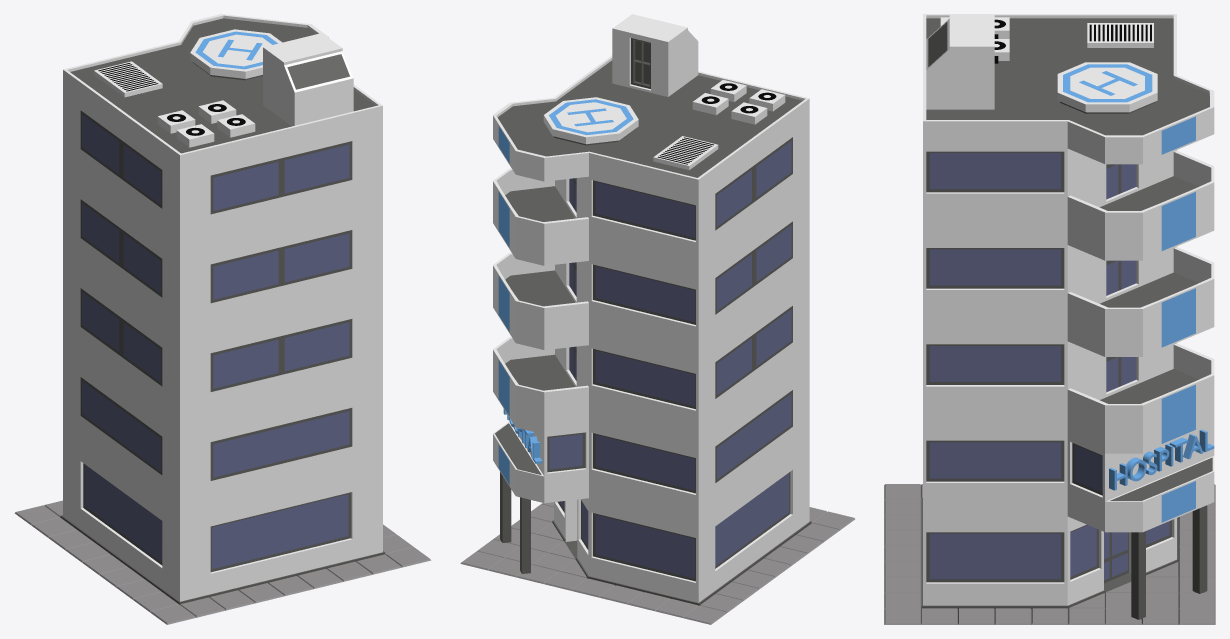
File: Hospital.fbx
3 renders of one model, left to right at view 1: azimuth 30°, elevation 25°; view 2: azimuth 150°, elevation 25°; view 3: azimuth 270°, elevation 25°, orthographic. The views are drawn at different scales.
Parts seen in each view (by area): view 1: Building_F; view 2: Building_F; view 3: Building_F.
Boxes of the visible parts, box(x1,y1,x2,y2) form: Building_F: box(14, 14, 431, 624); Building_F: box(460, 14, 855, 624); Building_F: box(884, 14, 1215, 624).
Size of the model in its own units: 2005 by 3648 by 2000.
